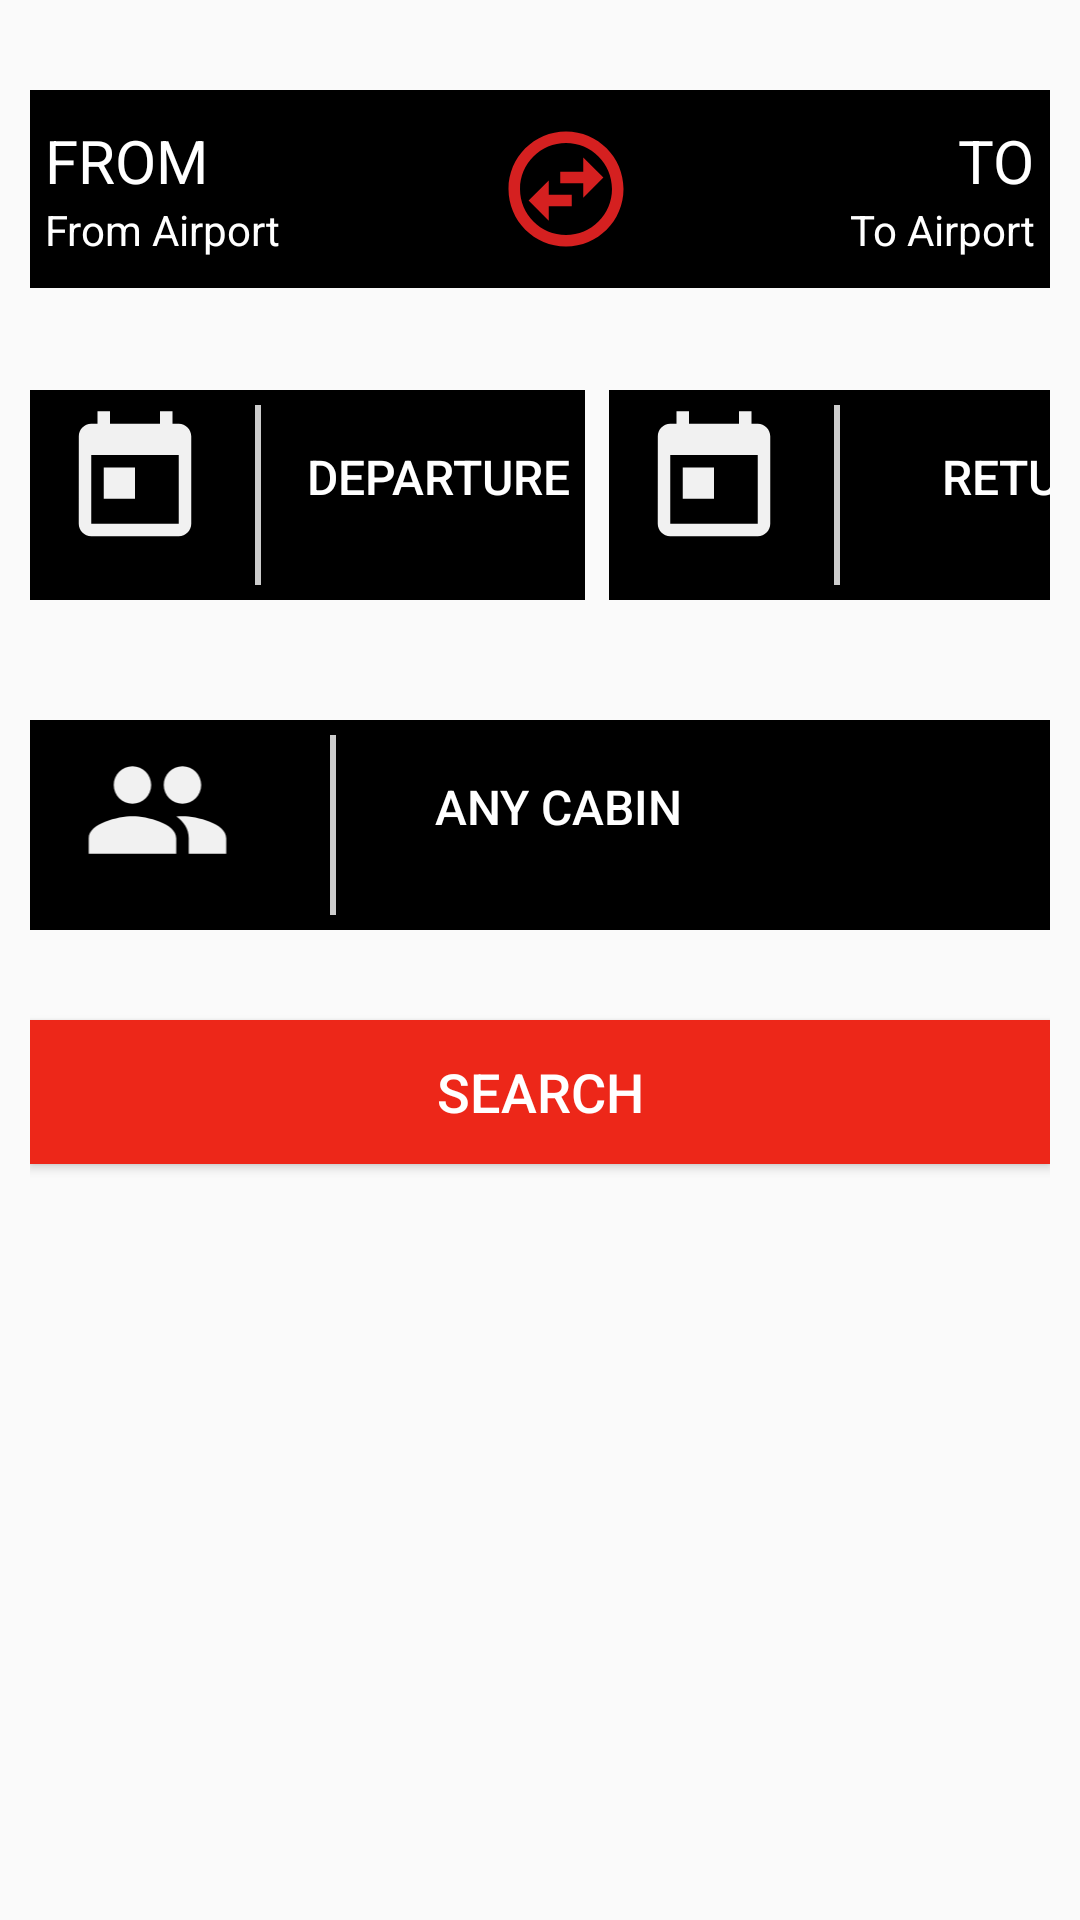

Icons on this 1080×1920 Android screen, each with the point to tap as (x=x, y=y):
swap horizontal circle: (x=566, y=189)
today: (x=135, y=474), (x=714, y=474)
